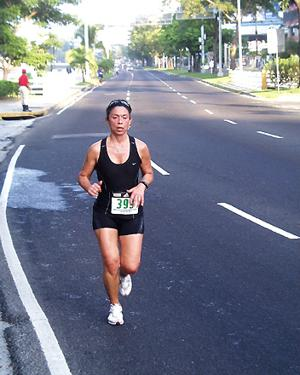person: (79, 100, 155, 328)
